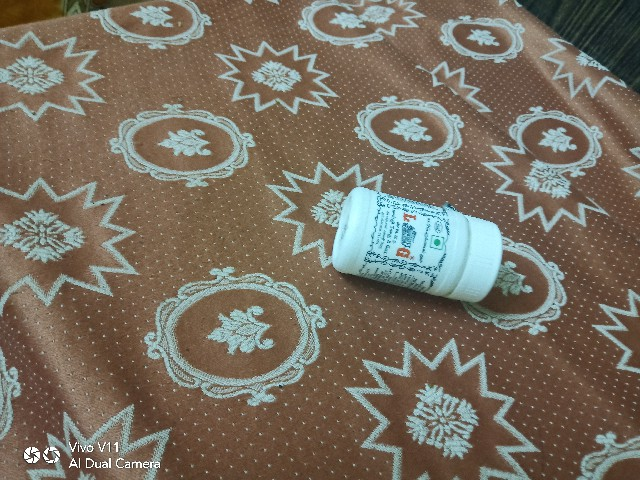lgasafoetidapowder small: (321, 176, 504, 343)
